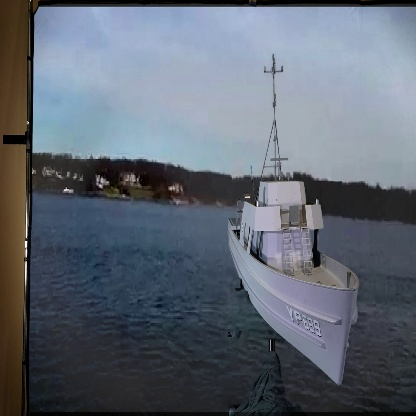YP689: (227, 55, 360, 388)
